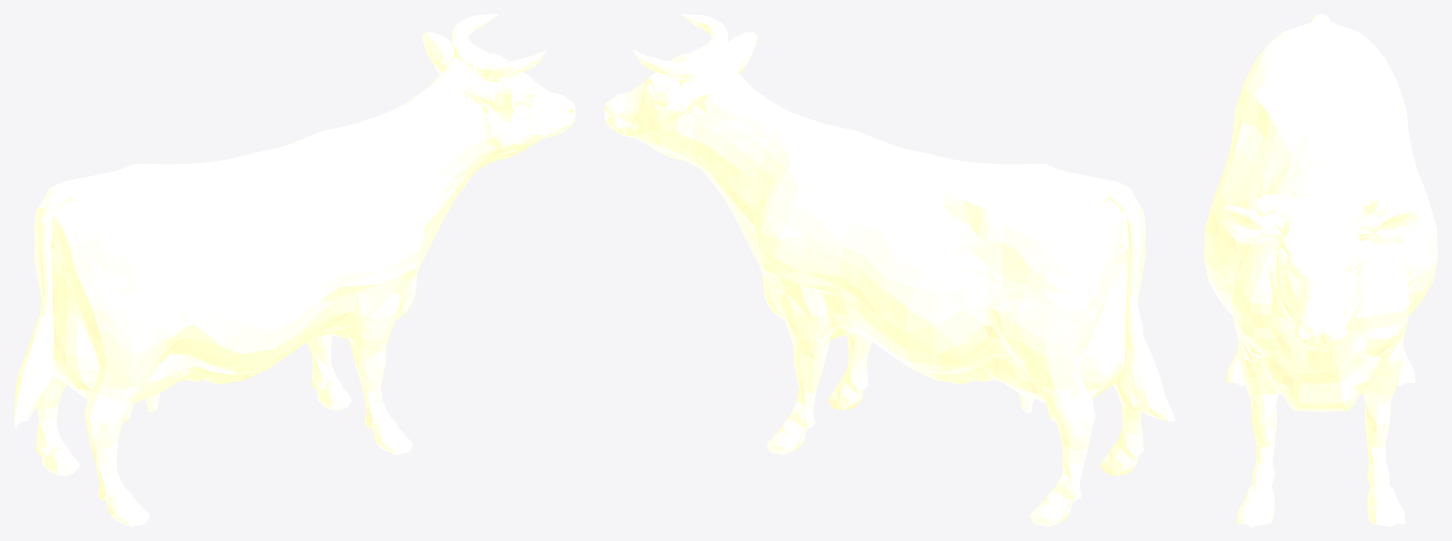
File: cow.gltf
3 renders of one model, left to right at view 1: azimuth 30°, elevation 25°; view 2: azimuth 150°, elevation 25°; view 3: azimuth 270°, elevation 25°, orthographic. The views are drawn at different scales.
Bounding box in the file's own units: 10.44 × 6.4 × 3.4.
